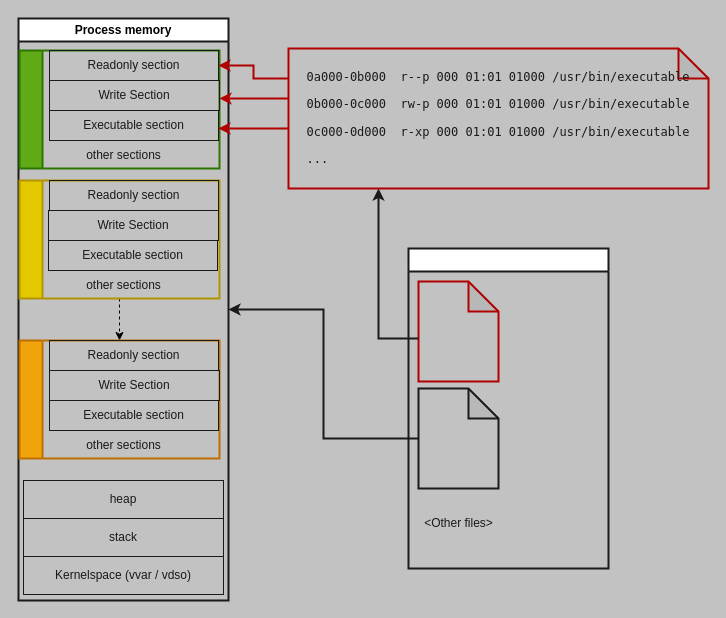
The diagram is 726 pixels wide and 618 high, and some of its shapes have lost their labels. The box of each missing label's shape, as (x1, y1, x2, y2) in pixels:
/proc/<pid>/: (407, 247, 609, 569)
Library 1: (18, 179, 220, 299)
Library n: (18, 339, 220, 459)
Main Executable: (18, 49, 220, 169)
maps: (417, 280, 499, 382)
mem: (417, 387, 499, 489)
